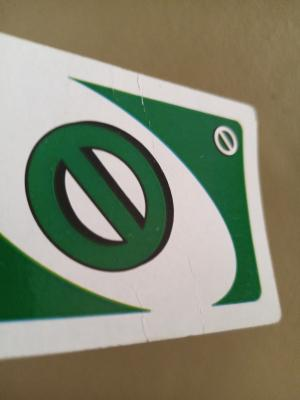green: (8, 61, 261, 316)
skip: (208, 118, 245, 164)
